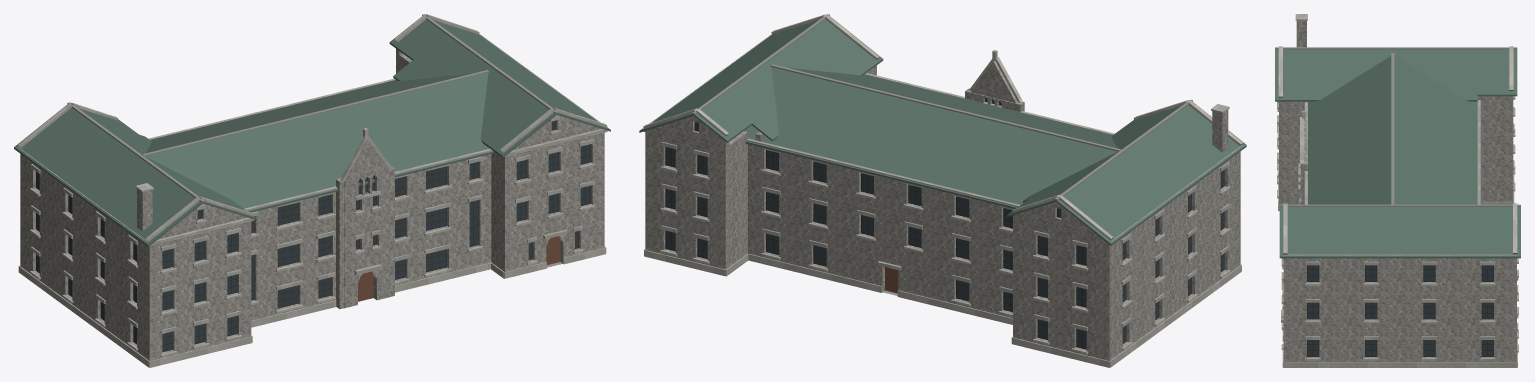
3 renders of one model, left to right at view 1: azimuth 30°, elevation 25°; view 2: azimuth 150°, elevation 25°; view 3: azimuth 270°, elevation 25°, orthographic. The views are drawn at different scales.
Parts seen in each view (by area): view 1: youngshin__rubble, youngshin__roof, youngshin__dressed, youngshin__glass, youngshin__frame, youngshin__fascia, youngshin__door; view 2: youngshin__rubble, youngshin__roof, youngshin__dressed, youngshin__glass, youngshin__frame, youngshin__fascia; view 3: youngshin__roof, youngshin__rubble, youngshin__dressed, youngshin__glass, youngshin__fascia, youngshin__frame.
Boxes of the visible parts, x1=… form: youngshin__rubble: x1=20, y1=49, x2=604, y2=360; youngshin__roof: x1=14, y1=19, x2=610, y2=246; youngshin__dressed: x1=17, y1=14, x2=607, y2=367; youngshin__glass: x1=36, y1=121, x2=590, y2=351; youngshin__frame: x1=36, y1=120, x2=590, y2=352; youngshin__fascia: x1=67, y1=14, x2=562, y2=267; youngshin__door: x1=358, y1=236, x2=560, y2=301; youngshin__rubble: x1=645, y1=60, x2=1240, y2=360; youngshin__roof: x1=639, y1=16, x2=1246, y2=245; youngshin__dressed: x1=642, y1=14, x2=1243, y2=367; youngshin__glass: x1=666, y1=97, x2=1224, y2=348; youngshin__frame: x1=665, y1=122, x2=1224, y2=349; youngshin__fascia: x1=692, y1=14, x2=1192, y2=295; youngshin__roof: x1=1275, y1=49, x2=1520, y2=258; youngshin__rubble: x1=1279, y1=20, x2=1516, y2=361; youngshin__dressed: x1=1277, y1=14, x2=1518, y2=367; youngshin__glass: x1=1307, y1=265, x2=1493, y2=356; youngshin__fascia: x1=1275, y1=47, x2=1520, y2=206; youngshin__frame: x1=1307, y1=265, x2=1493, y2=356.
Size of the model in its own units: 47.03 by 16.65 by 23.87.
Materials: 7 (2 with a texture image).
